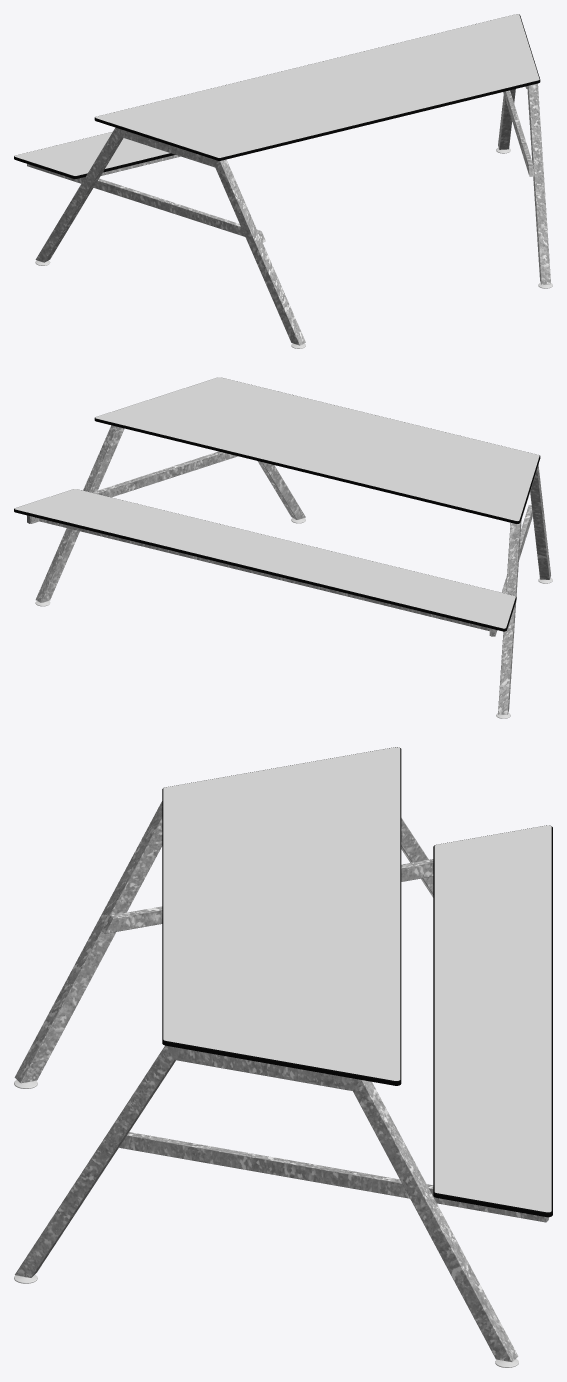
Rendered from rustik-forum.glb.
3 views of the same model, one above another, from view 1: azimuth 30°, elevation 25°; view 2: azimuth 150°, elevation 25°; view 3: azimuth 270°, elevation 25° (orthographic). The views are drawn at different scales.
Parts seen in each view (by area): view 1: Tischplatte, Gestell, Sitzplatte, HPL-Kante; view 2: Tischplatte, Sitzplatte, Gestell, HPL-Kante; view 3: Tischplatte, Sitzplatte, Gestell, HPL-Kante.
Part boxes in pixels (x1,y1,x2,y2): Tischplatte: (95,14,539,157); Gestell: (27,83,550,345); Sitzplatte: (14,132,169,175); HPL-Kante: (14,14,540,178); Tischplatte: (95,377,539,520); Sitzplatte: (15,489,515,628); Gestell: (27,425,550,714); HPL-Kante: (14,381,540,631); Tischplatte: (163,747,400,1080); Sitzplatte: (434,825,551,1212); Gestell: (14,801,548,1362); HPL-Kante: (162,747,552,1217).
Bounding box in the file's own units: 2.3 × 0.74 × 1.35.
3 materials, 1 textured.
